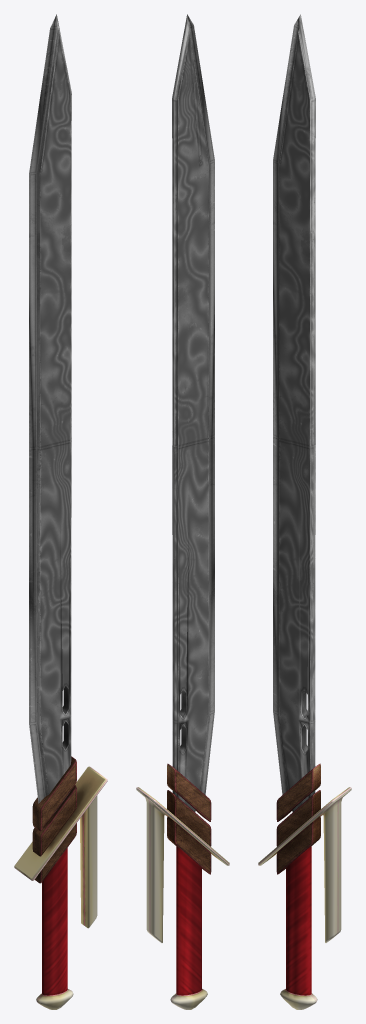
The model's file is Katana.glb.
3 renders of one model, left to right at view 1: azimuth 30°, elevation 25°; view 2: azimuth 210°, elevation 25°; view 3: azimuth 330°, elevation 25°, orthographic.
Parts seen in each view (by area): view 1: Katana.001; view 2: Katana.001; view 3: Katana.001.
Boxes of the visible parts, x1=… form: Katana.001: x1=14, y1=14, x2=107, y2=1009; Katana.001: x1=136, y1=14, x2=229, y2=1009; Katana.001: x1=258, y1=14, x2=351, y2=1009.
Bounding box in the file's own units: 125 × 1562 × 54.
Materials: 1 (1 with a texture image).
